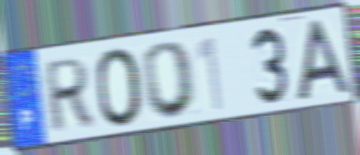1: (196, 35, 224, 113)
3: (250, 24, 289, 108)
A: (295, 16, 354, 104)
O: (141, 38, 199, 121), (93, 45, 146, 129)
R: (44, 54, 95, 136)
